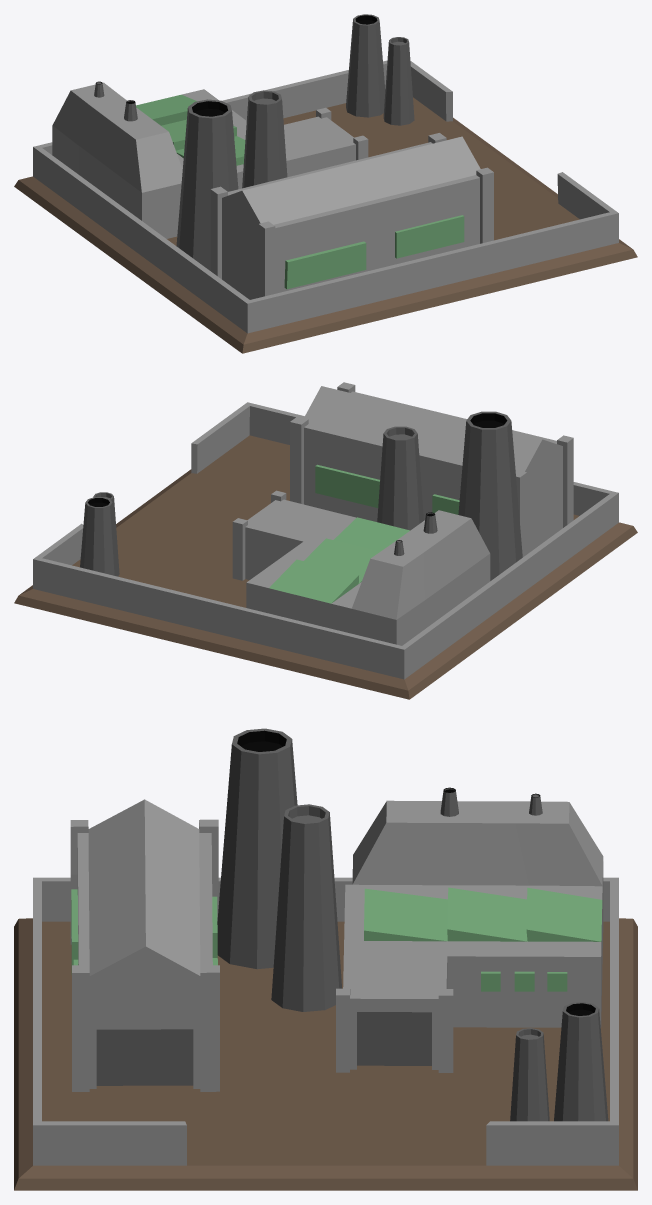
The model's file is industrial_factory_var2_model.fbx.
The picture shows the model from 3 angles, top to bottom: view 1: azimuth 30°, elevation 25°; view 2: azimuth 150°, elevation 25°; view 3: azimuth 270°, elevation 25°; orthographic projection. The views are drawn at different scales.
Visible parts, largest first — view 1: polySurface13; view 2: polySurface13; view 3: polySurface13.
Part boxes in pixels (box(x1,y1,x2,y2)): polySurface13: box(14, 14, 637, 353); polySurface13: box(14, 382, 637, 699); polySurface13: box(14, 728, 637, 1190).
Bounding box in the file's own units: 8.96 × 3.55 × 8.96.
1 material, 1 textured.
